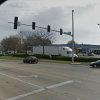Traffic light: (8, 11, 61, 42)
